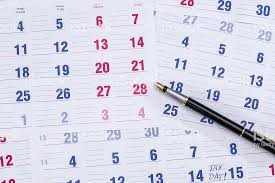pen: (154, 81, 275, 151)
